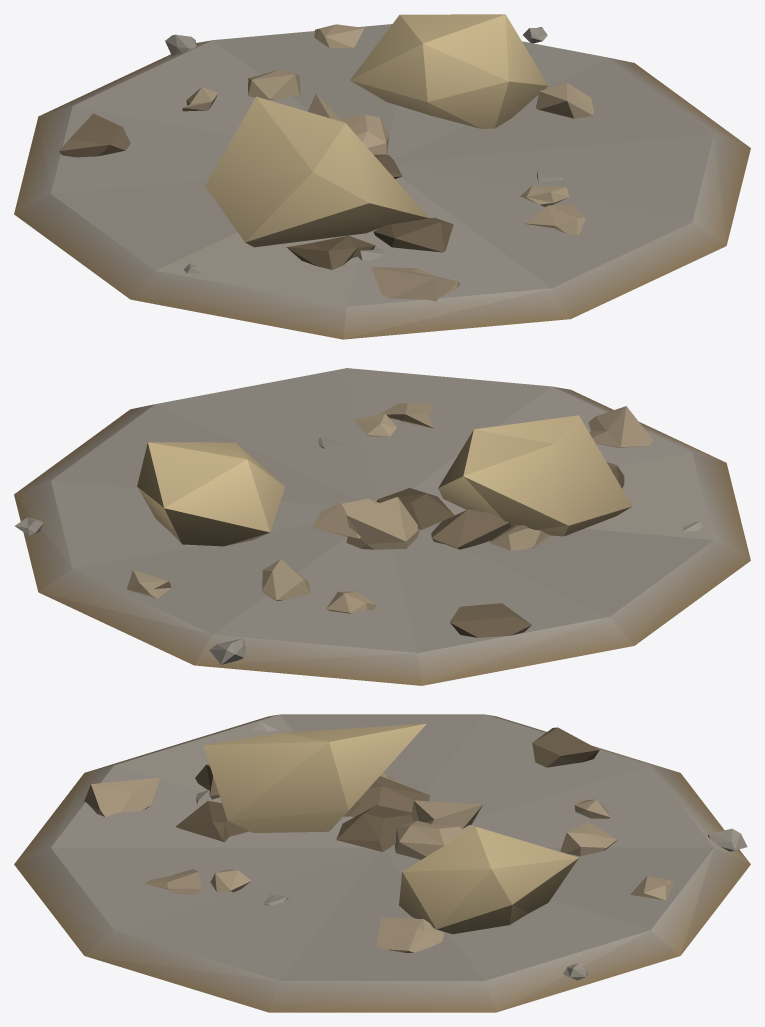
The model's file is rubble-scatter.glb.
3 views of the same model, one above another, from view 1: azimuth 30°, elevation 25°; view 2: azimuth 150°, elevation 25°; view 3: azimuth 270°, elevation 25° (orthographic). The views are drawn at different scales.
Parts seen in each view (by area): view 1: rubble_scatter; view 2: rubble_scatter; view 3: rubble_scatter.
Boxes of the visible parts, left/top/right/bottom form: rubble_scatter: left=14, top=14, right=750, bottom=339; rubble_scatter: left=14, top=368, right=750, bottom=685; rubble_scatter: left=14, top=714, right=750, bottom=1012.
Bounding box in the file's own units: 1.52 × 0.2724 × 1.6.
